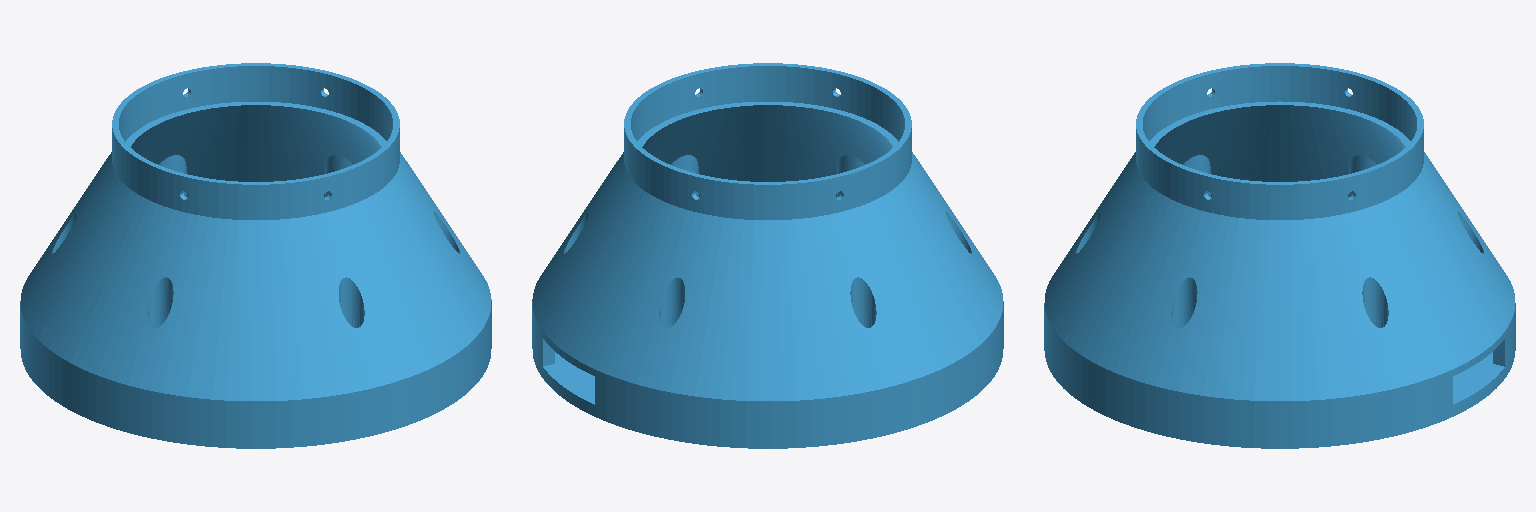
URDF robot description (builder_benchmark):
<?xml version="1.0"?>
<robot name="builder_benchmark">
  <link name="world_link"/>
  <link name="base_mesh_link">
    <visual>
      <origin xyz="0.000124 0.000214 -0.010426" rpy="0 0 0"/>
      <geometry>
        <mesh filename="../meshes/Base-1.stl" scale="0.001 0.001 0.001"/>
      </geometry>
    </visual>
    <collision>
      <origin xyz="0.000124 0.000214 -0.010426" rpy="0 0 0"/>
      <geometry>
        <mesh filename="../meshes/Base-1.stl" scale="0.001 0.001 0.001"/>
      </geometry>
    </collision>
  </link>
  <joint name="world_to_base_mesh" type="fixed">
    <origin xyz="0 0 0" rpy="0 0 0"/>
    <parent link="world_link"/>
    <child link="base_mesh_link"/>
  </joint>
  <link name="motor_mesh_link">
    <visual>
      <origin xyz="0 -0.000141 -0.025847" rpy="0 0 0"/>
      <geometry>
        <mesh filename="../meshes/Motor2.stl" scale="0.001 0.001 0.001"/>
      </geometry>
    </visual>
    <collision>
      <origin xyz="0 -0.000141 -0.025847" rpy="0 0 0"/>
      <geometry>
        <mesh filename="../meshes/Motor2.stl" scale="0.001 0.001 0.001"/>
      </geometry>
    </collision>
  </link>
  <joint name="base_to_motor_mesh" type="fixed">
    <origin xyz="0 0 0" rpy="0 0 0"/>
    <parent link="base_mesh_link"/>
    <child link="motor_mesh_link"/>
  </joint>
</robot>

--- What the picture shows (computed from the rendered views, not written in the file) ---
3 views of the same robot in one strip: view 1: azimuth 30°, elevation 25°; view 2: azimuth 150°, elevation 25°; view 3: azimuth 270°, elevation 25° (orthographic).
Model builder_benchmark with 3 links and 2 joints (2 fixed), rooted at world_link, posed every joint at zero.
Links seen in each view (by area): view 1: base_mesh_link; view 2: base_mesh_link; view 3: base_mesh_link.
Link boxes in pixels (left/top/right/bottom): base_mesh_link: left=20, top=63, right=491, bottom=448; base_mesh_link: left=532, top=63, right=1003, bottom=448; base_mesh_link: left=1044, top=63, right=1515, bottom=448.
Size in the robot's own frame: 0.18 by 0.18 by 0.095 metres.
Meshes: 2 distinct files referenced, 2 mesh visuals loaded (2 binary STL).
